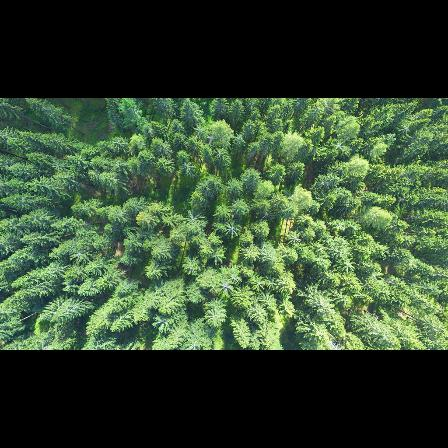Sick: (181, 207, 203, 229), (67, 247, 92, 266), (216, 279, 235, 300), (222, 220, 243, 239), (328, 139, 350, 156), (179, 159, 198, 178), (226, 269, 245, 287), (251, 276, 268, 293), (286, 231, 303, 248), (232, 130, 249, 147), (338, 259, 357, 274), (192, 124, 210, 139), (395, 122, 413, 136)
